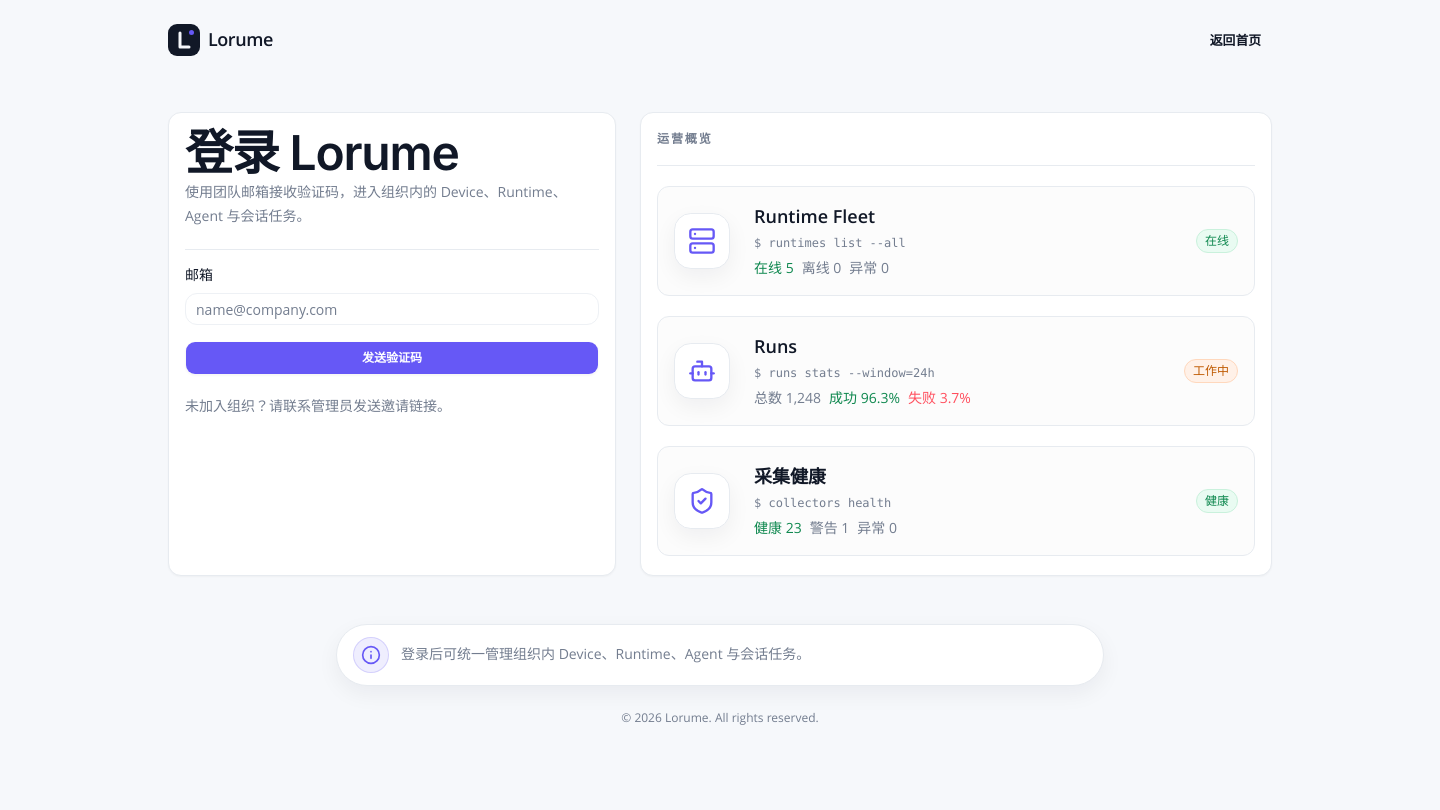
auth pages › maps auth error codes to readable verification messages
Type "zhangliang@gaoding.com" into the field labelled "邮箱" at (392, 309), box [185,293,599,325]
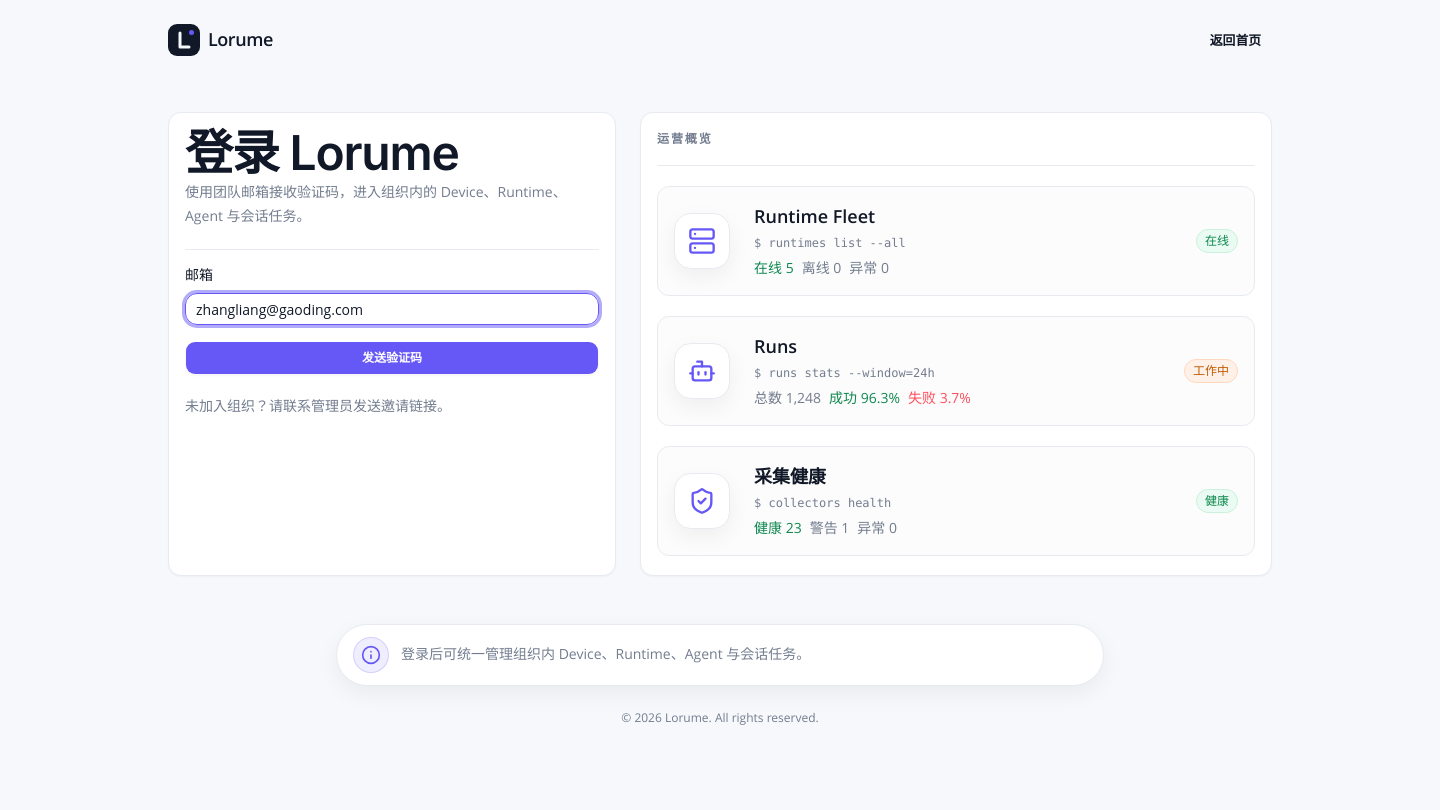
Click the button "发送验证码" at (392, 358), box [185,341,599,375]
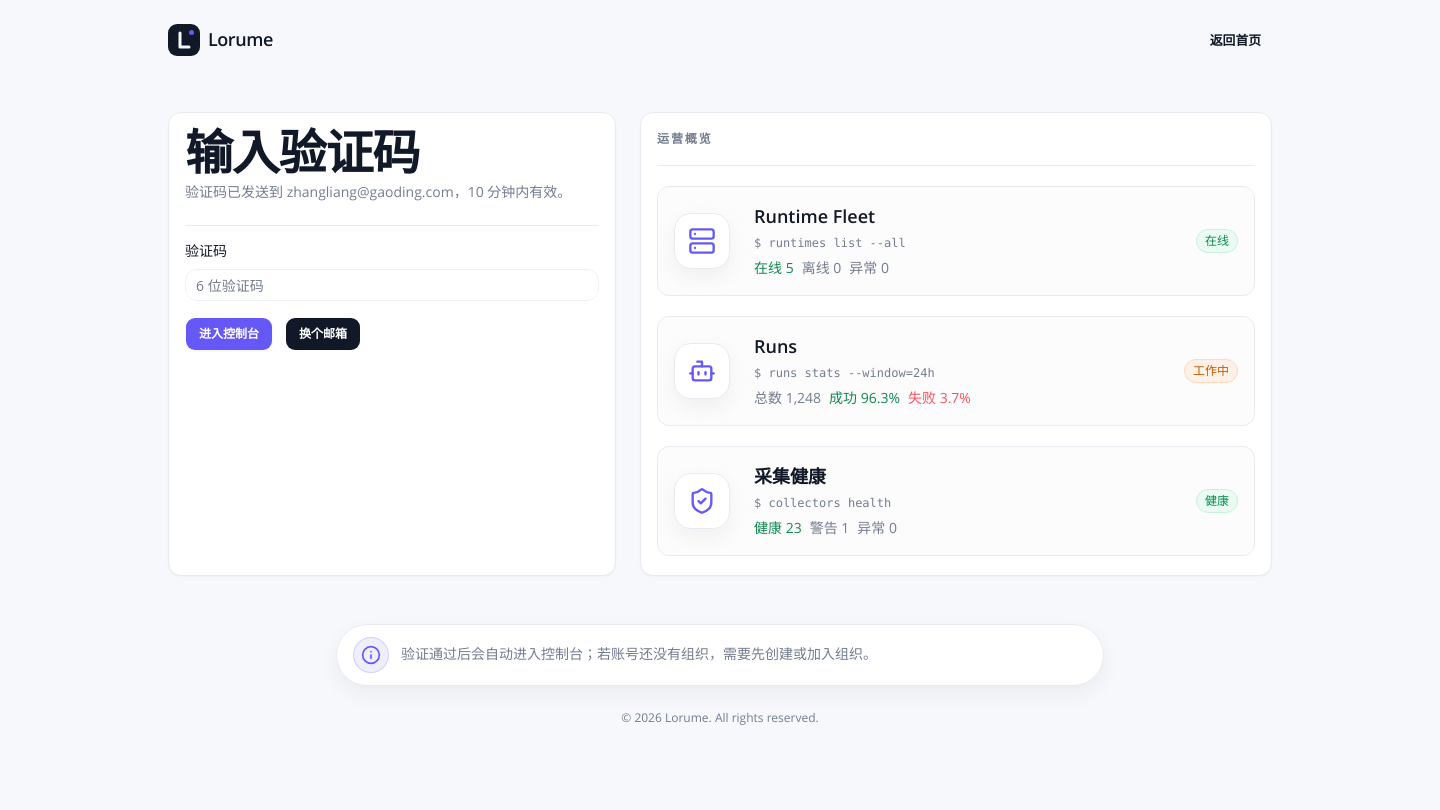
Type "12321" into the field labelled "验证码" at (392, 285), box [185,269,599,301]
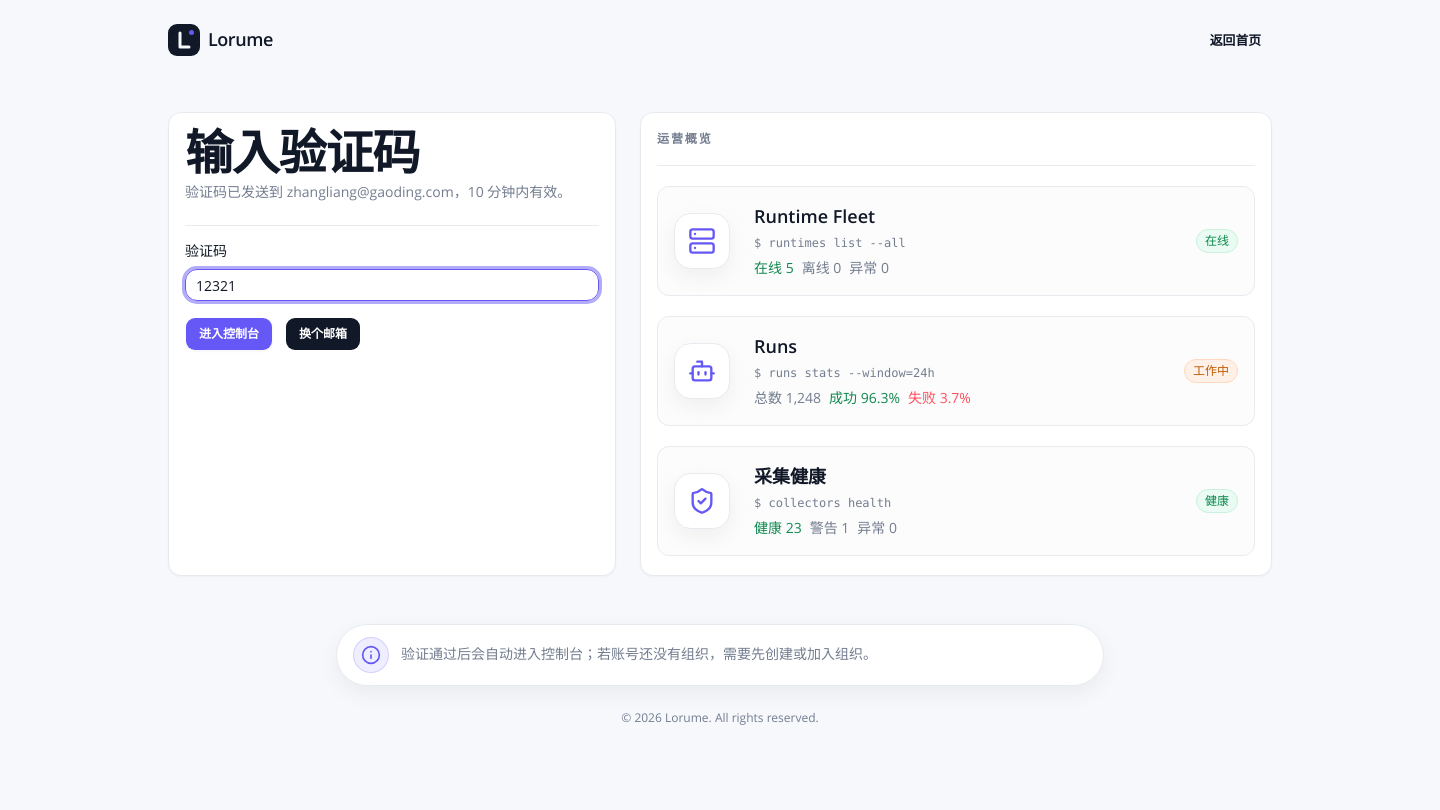
Click the button "进入控制台" at (229, 334), box [185,317,273,351]
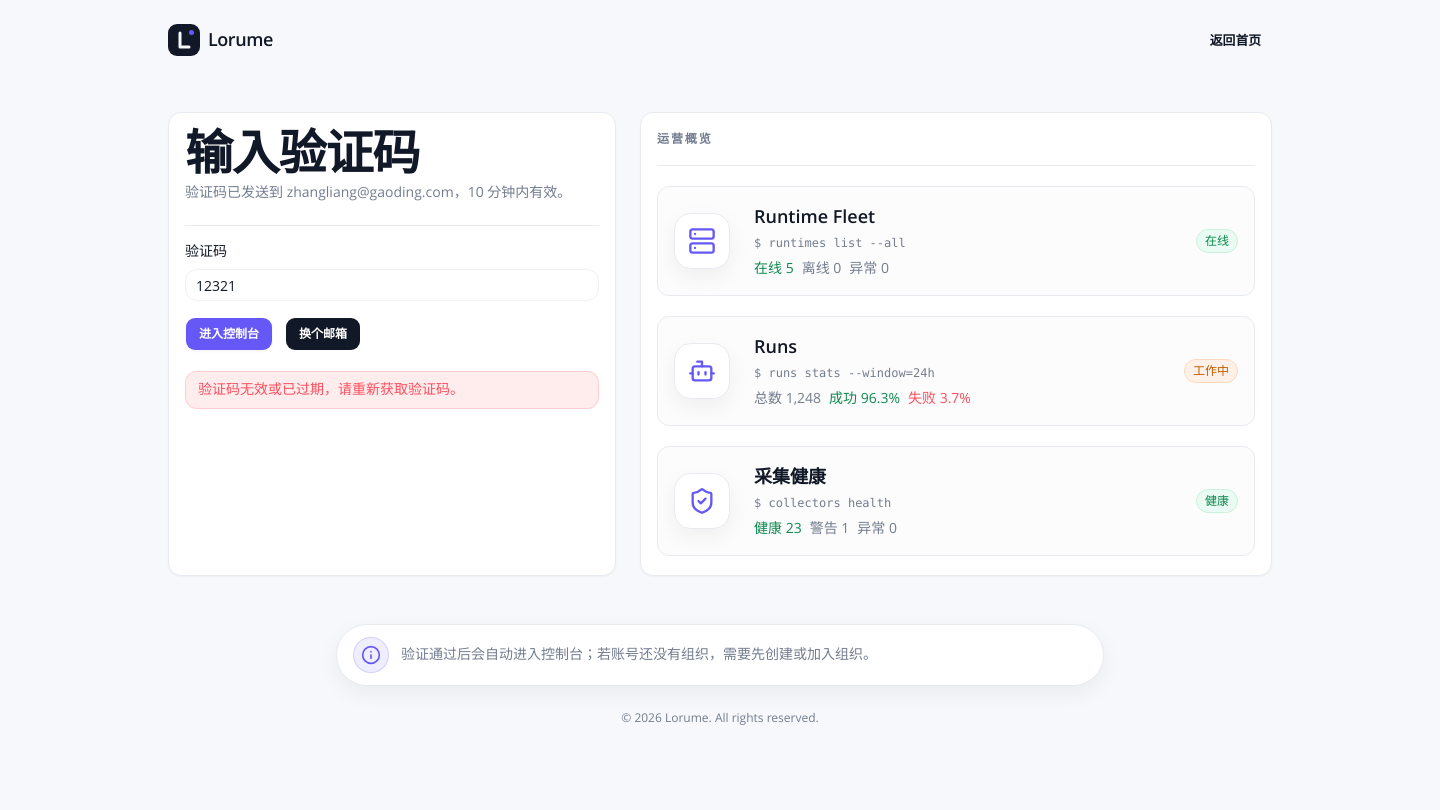
Now the message reads "验证码无效或已过期，请重新获取验证码。", box [198,380,464,399]
